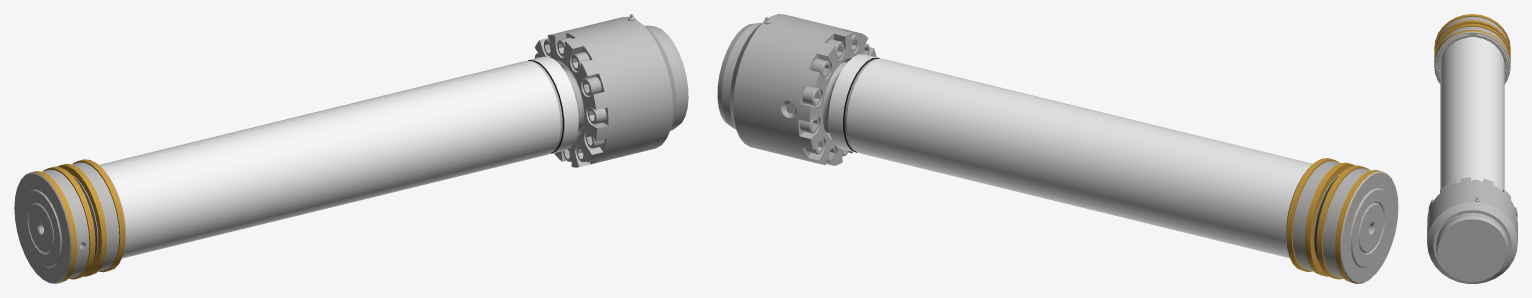
Rendered from (ReefCutter) rbs-tc-190-ca-00 rod.glb.
3 renders of one model, left to right at view 1: azimuth 30°, elevation 25°; view 2: azimuth 150°, elevation 25°; view 3: azimuth 270°, elevation 25°, orthographic. The views are drawn at different scales.
Visible parts, largest first — view 1: Solid1; view 2: Solid1; view 3: Solid1.
Boxes of the visible parts, x1=… form: Solid1: x1=14, y1=14, x2=688, y2=283; Solid1: x1=717, y1=14, x2=1398, y2=283; Solid1: x1=1427, y1=14, x2=1517, y2=283.
Size of the model in its own units: 1.19 by 0.2343 by 0.225.
